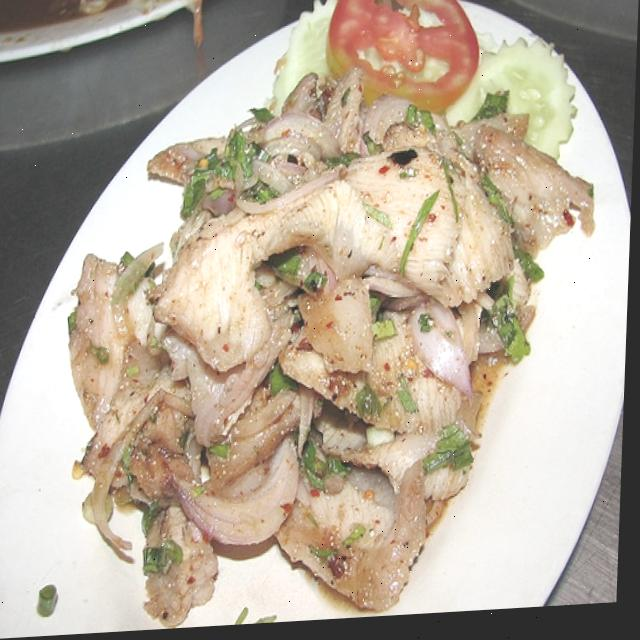猪肉菜式: (39, 0, 603, 628)
